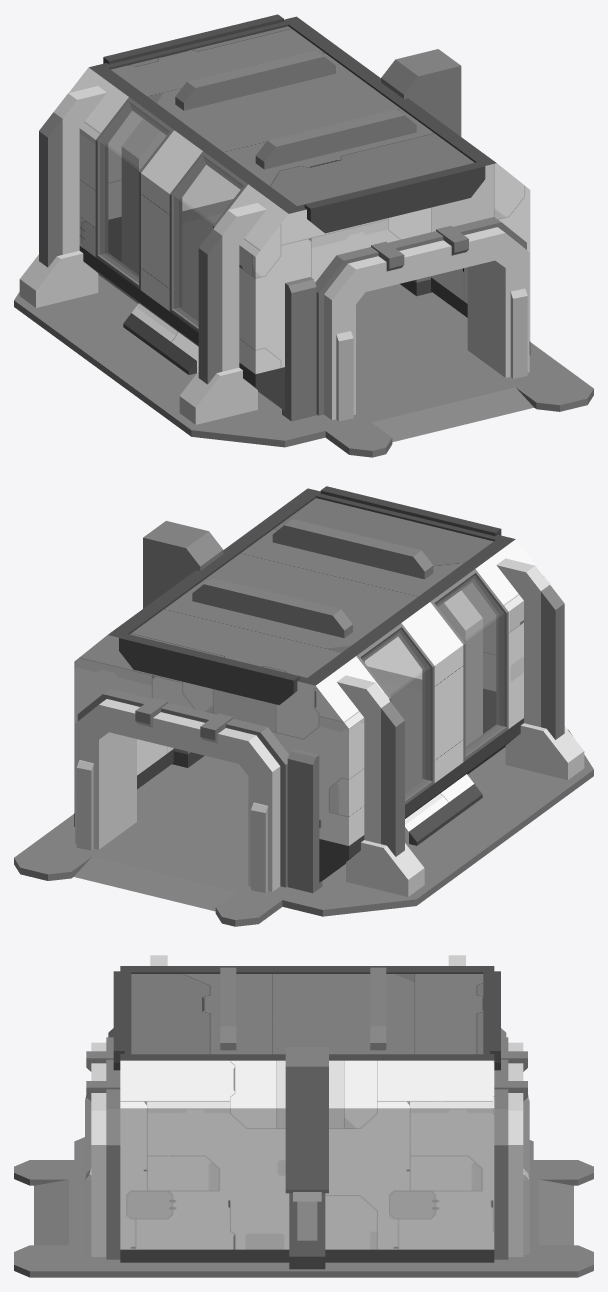
File: SM_Building_1.fbx
3 views of the same model, one above another, from view 1: azimuth 30°, elevation 25°; view 2: azimuth 150°, elevation 25°; view 3: azimuth 270°, elevation 25° (orthographic). The views are drawn at different scales.
Visible parts, largest first — view 1: SM_Building_1, SM_Building_1_Floor, SM_Building_1_Roof, SM_Building_1_Roof_Extras; view 2: SM_Building_1, SM_Building_1_Floor, SM_Building_1_Roof, SM_Building_1_Roof_Extras; view 3: SM_Building_1, SM_Building_1_Roof, SM_Building_1_Floor, SM_Building_1_Roof_Extras.
Part boxes in pixels (<box>): SM_Building_1: <box>19,14,530,424</box>; SM_Building_1_Floor: <box>14,199,593,457</box>; SM_Building_1_Roof: <box>111,26,474,205</box>; SM_Building_1_Roof_Extras: <box>175,50,416,169</box>; SM_Building_1: <box>74,486,584,896</box>; SM_Building_1_Floor: <box>14,661,593,926</box>; SM_Building_1_Roof: <box>130,498,493,677</box>; SM_Building_1_Roof_Extras: <box>192,519,433,638</box>; SM_Building_1: <box>85,955,529,1269</box>; SM_Building_1_Roof: <box>131,974,483,1054</box>; SM_Building_1_Floor: <box>14,1137,593,1277</box>; SM_Building_1_Roof_Extras: <box>220,967,386,1050</box>.
Bounding box in the file's own units: 752 × 470 × 1159.
